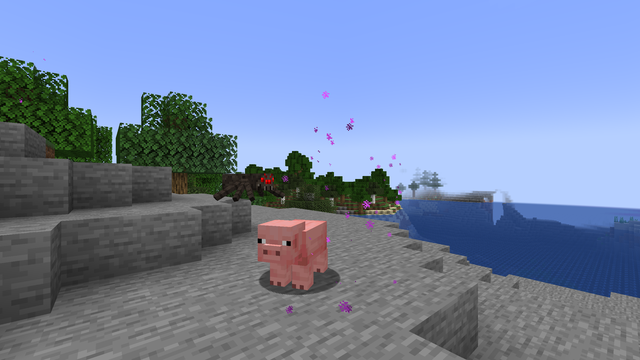araignees: (220, 169, 281, 202)
cochons: (262, 217, 337, 293)
